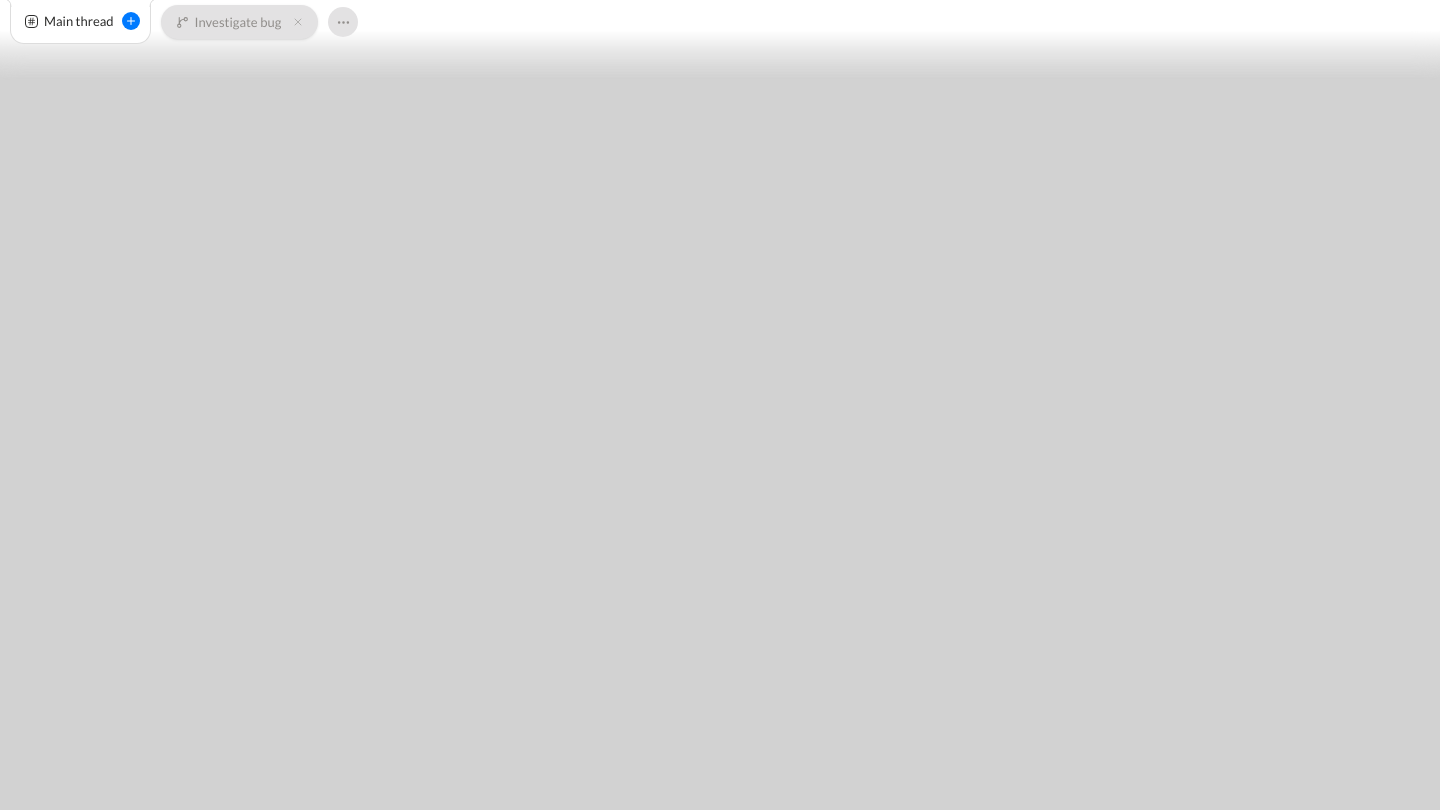
Test: ThreadTabStrip › rename via right-click › opens the rename modal, pre-filled with the pill's current title, on right-click
Right-click the tab "Investigate bug".
right_click(224, 22)  # box [162,5,287,39]
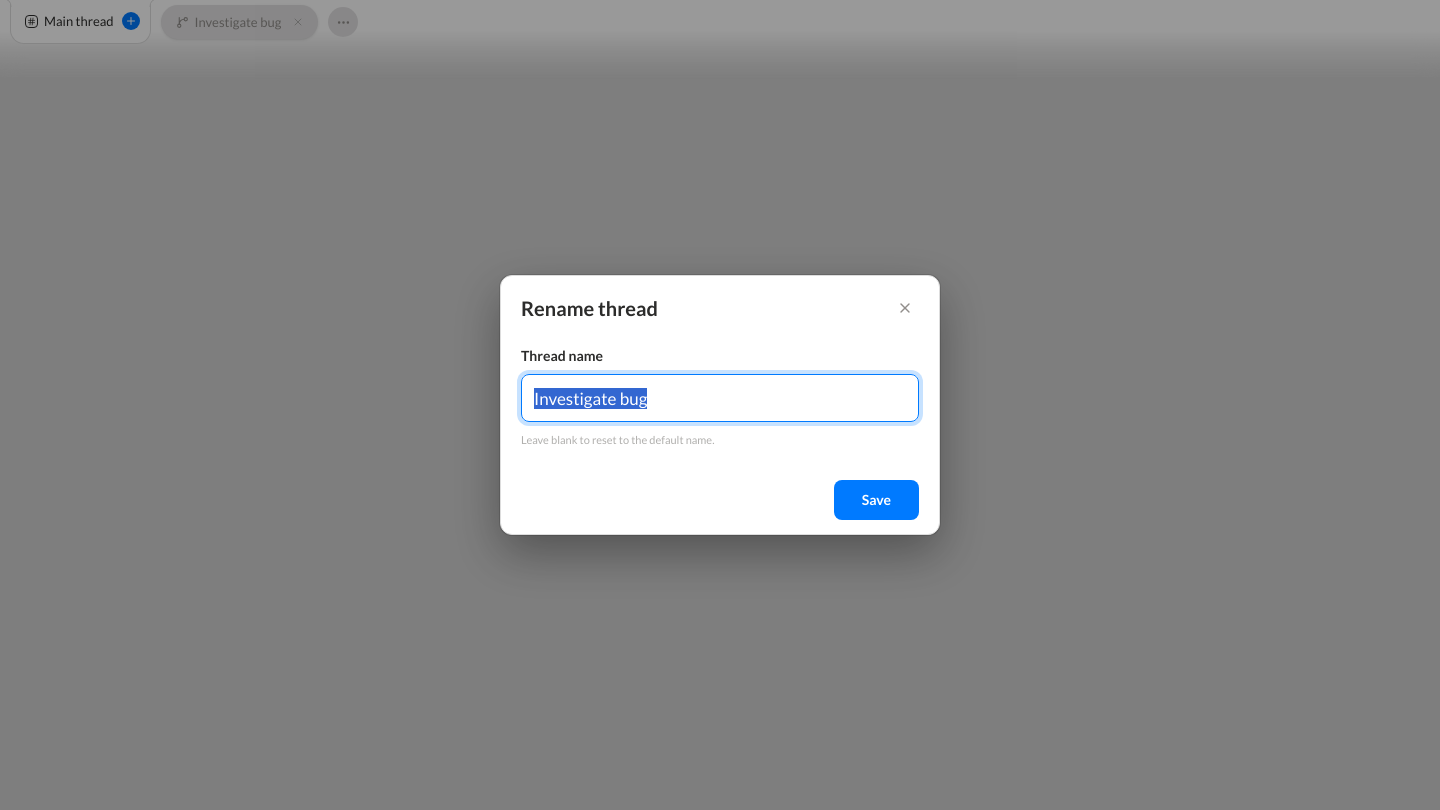
Check: the field with test id "rename-thread-input" holds "Investigate bug", box [521,374,919,422]
